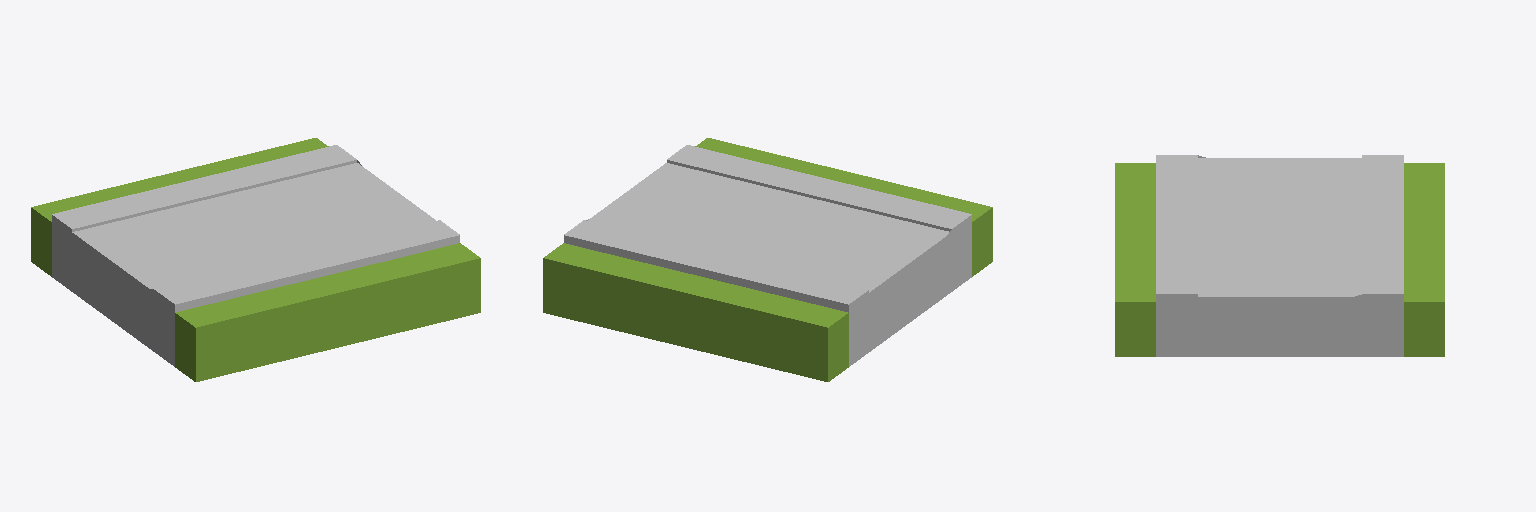
Rendered from Road.obj.
3 views of the same model, side by side, from view 1: azimuth 30°, elevation 25°; view 2: azimuth 150°, elevation 25°; view 3: azimuth 270°, elevation 25° (orthographic).
Parts seen in each view (by area): view 1: Road; view 2: Road; view 3: Road.
Boxes of the visible parts, x1,y1,x2,y2 form: Road: [31, 138, 480, 381]; Road: [543, 138, 992, 381]; Road: [1115, 155, 1444, 356].
Bounding box in the file's own units: 3 × 0.63 × 3.